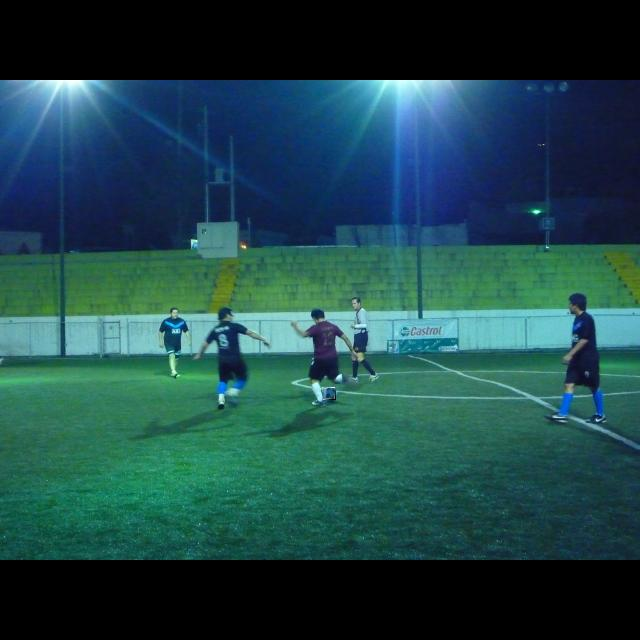Football: (322, 388, 336, 400)
